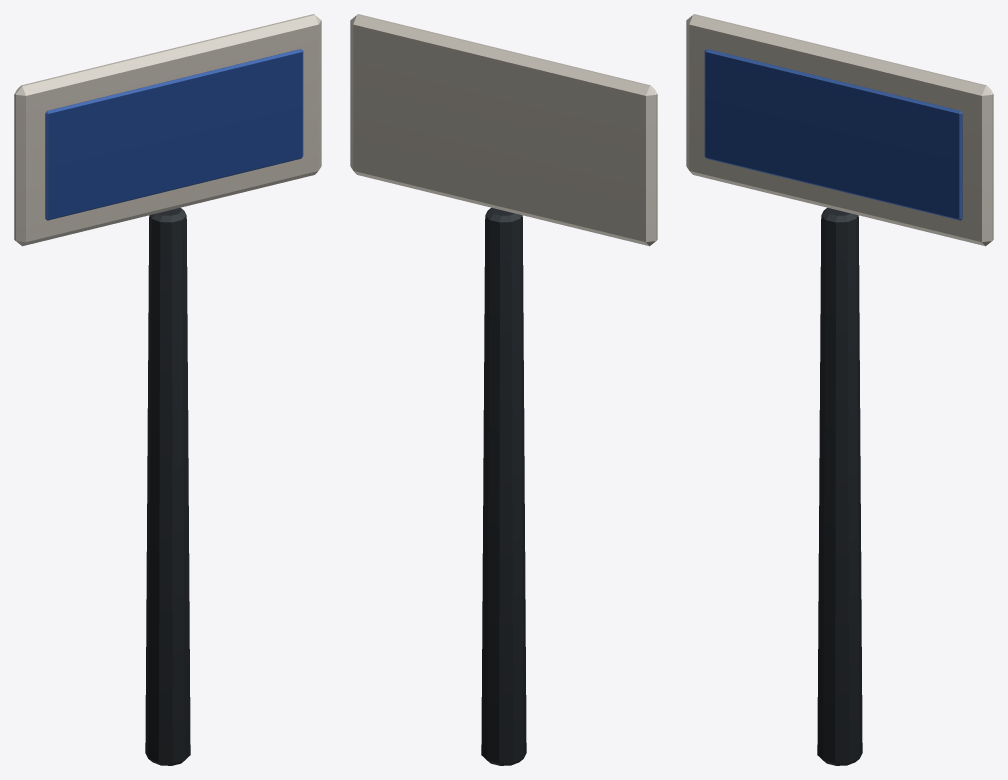
The model's file is road-sign-v1.glb.
The picture shows the model from 3 angles, left to right: view 1: azimuth 30°, elevation 25°; view 2: azimuth 150°, elevation 25°; view 3: azimuth 330°, elevation 25°; orthographic projection.
Parts seen in each view (by area): view 1: road-sign-v1.lod0; view 2: road-sign-v1.lod0; view 3: road-sign-v1.lod0.
Part boxes in pixels (left/top/right/bottom): road-sign-v1.lod0: left=14, top=14, right=321, bottom=765; road-sign-v1.lod0: left=350, top=14, right=657, bottom=765; road-sign-v1.lod0: left=686, top=14, right=993, bottom=765.
Bounding box in the file's own units: 1.4 × 3.1 × 0.1712.
